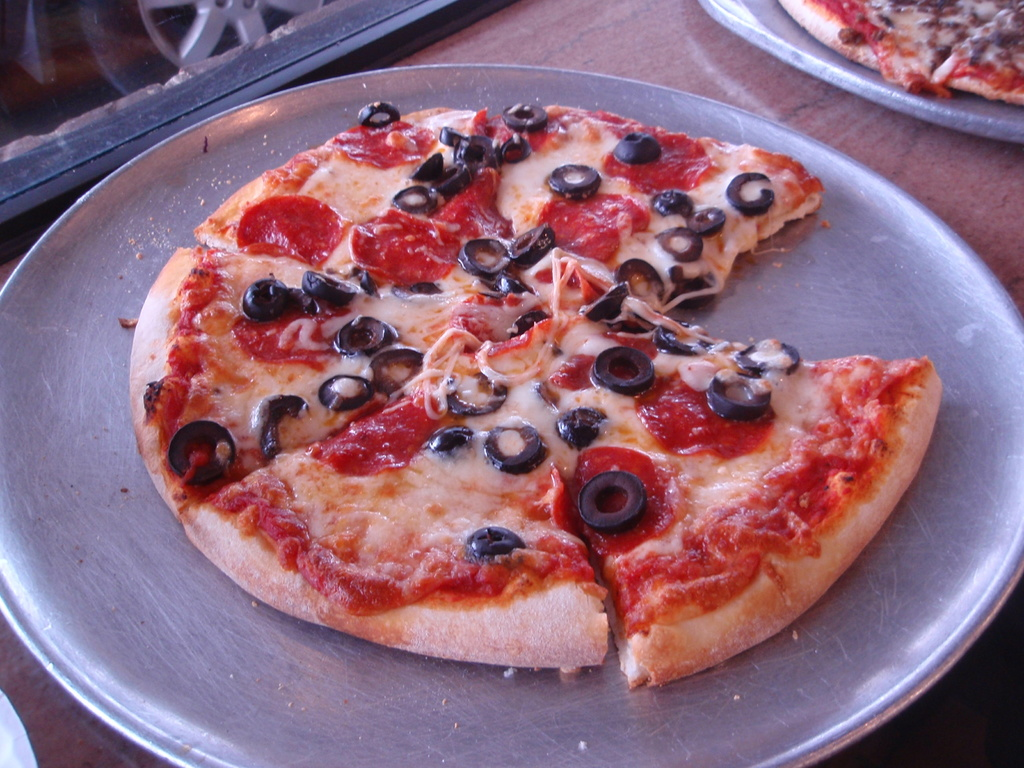Pizza: (131, 99, 945, 692), (771, 0, 1023, 106)
